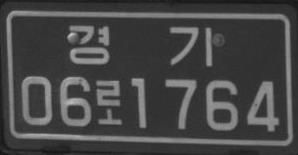0: (20, 74, 53, 127)
1: (126, 76, 153, 129)
4: (245, 79, 280, 133)
6: (204, 78, 240, 132), (58, 75, 93, 128)
7: (162, 76, 198, 130)
경기_D: (67, 22, 214, 68)
로: (94, 78, 123, 126)
